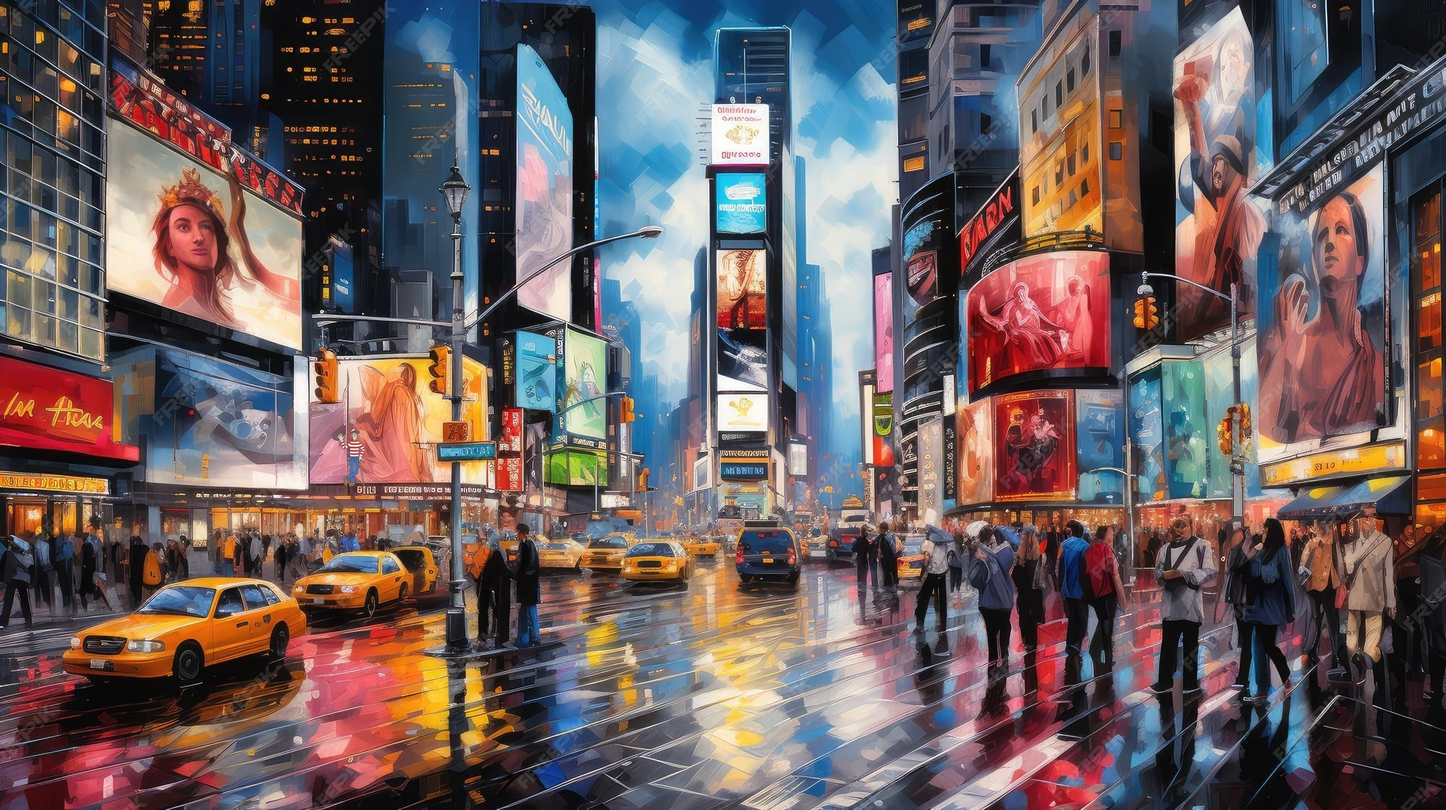waldo: (337, 428, 365, 486)
